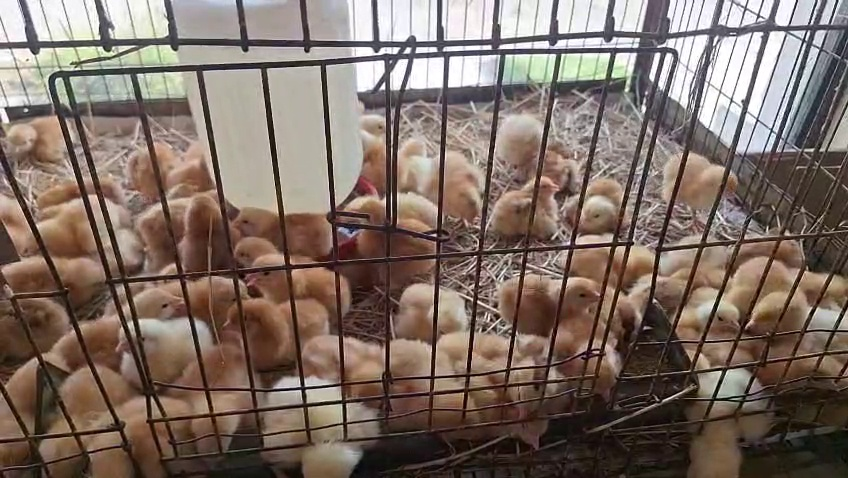Pollo: (0, 321, 118, 460), (264, 367, 398, 478), (178, 337, 276, 470), (40, 362, 142, 477), (669, 364, 767, 478), (343, 190, 448, 289), (85, 391, 204, 478), (216, 284, 334, 371), (636, 138, 749, 227), (402, 331, 486, 441), (245, 246, 350, 333), (300, 316, 399, 403), (111, 307, 209, 394), (474, 316, 572, 403), (537, 311, 635, 398), (493, 260, 600, 334), (480, 391, 578, 468), (233, 190, 350, 253), (389, 266, 477, 344), (428, 130, 504, 217), (475, 104, 550, 191), (29, 194, 123, 262), (737, 256, 815, 337), (105, 133, 184, 208), (484, 174, 563, 247), (77, 195, 166, 259), (14, 162, 111, 220), (675, 281, 755, 349), (559, 231, 663, 283), (183, 188, 257, 261), (0, 244, 92, 302), (145, 163, 219, 232), (564, 178, 640, 243), (668, 225, 751, 282), (608, 281, 681, 337), (0, 115, 77, 168), (0, 295, 71, 352), (387, 129, 445, 194), (518, 137, 573, 189), (145, 134, 211, 175), (351, 140, 408, 185), (120, 285, 187, 318), (231, 239, 294, 272), (352, 99, 396, 142)
